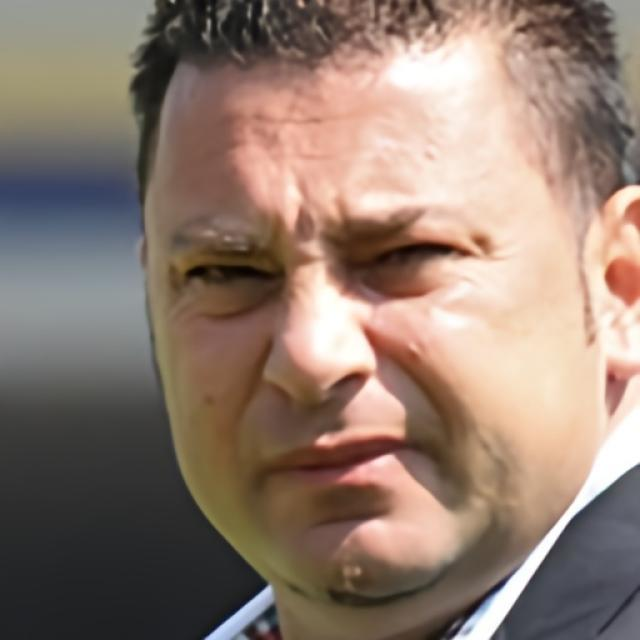disgust: (144, 24, 606, 603)
